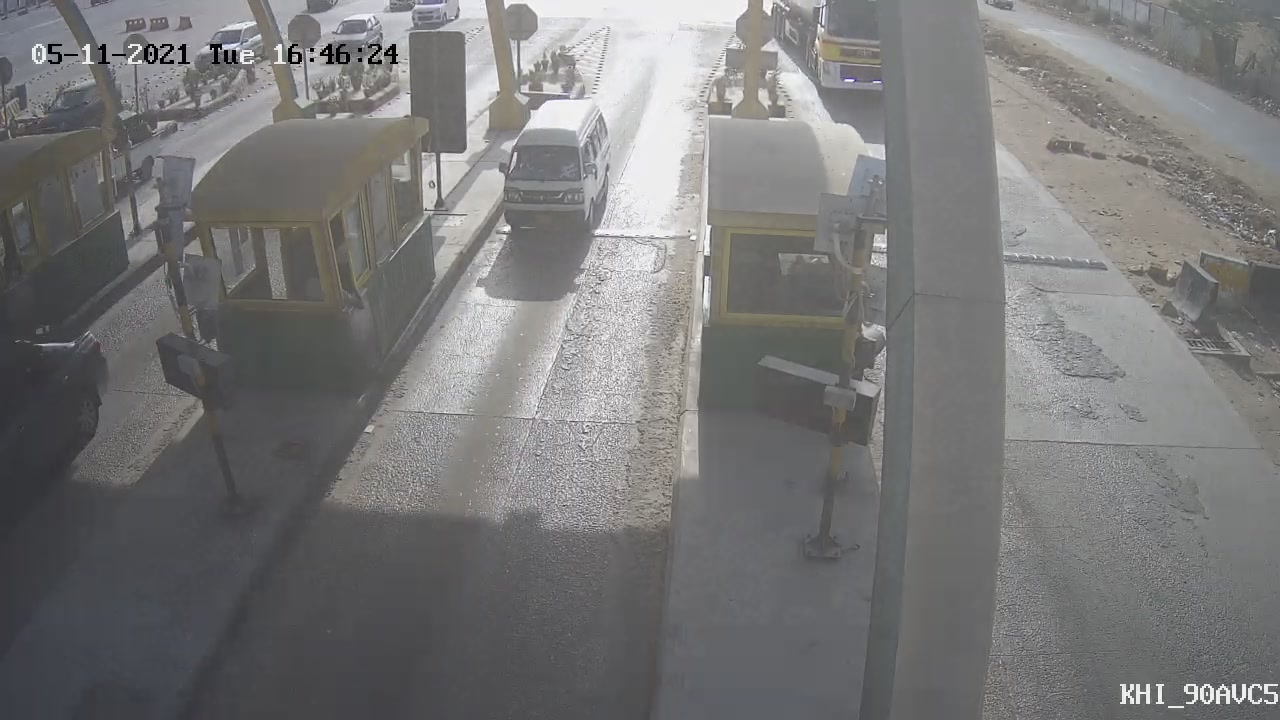F1: (483, 85, 625, 248)
